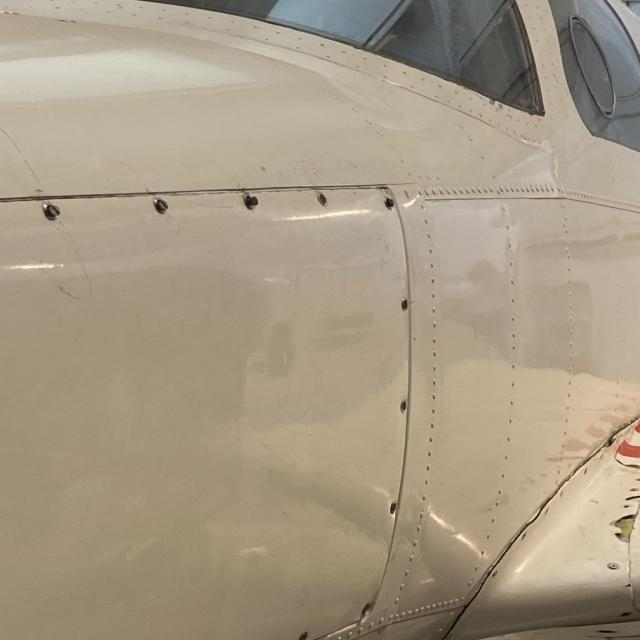Crack: (534, 411, 640, 511), (480, 532, 520, 587), (437, 605, 473, 640), (517, 501, 548, 534), (613, 515, 636, 542), (625, 495, 640, 504), (622, 583, 633, 588)
Paint-off: (637, 508, 640, 516)
